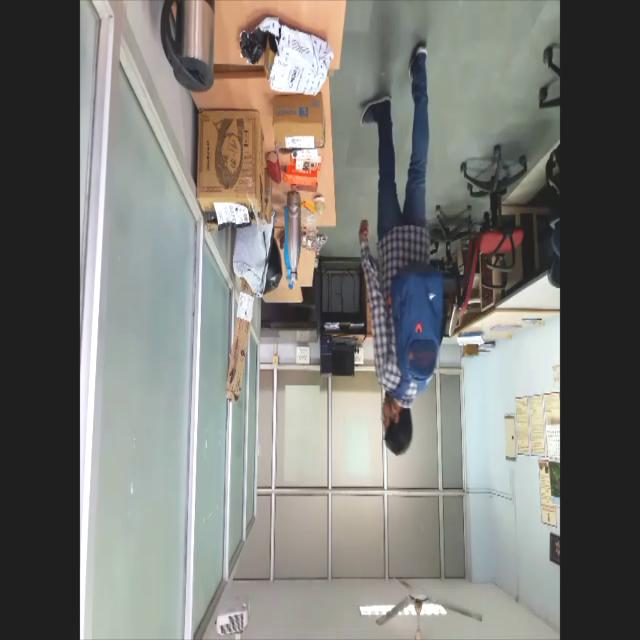normal: (359, 32, 449, 465)
